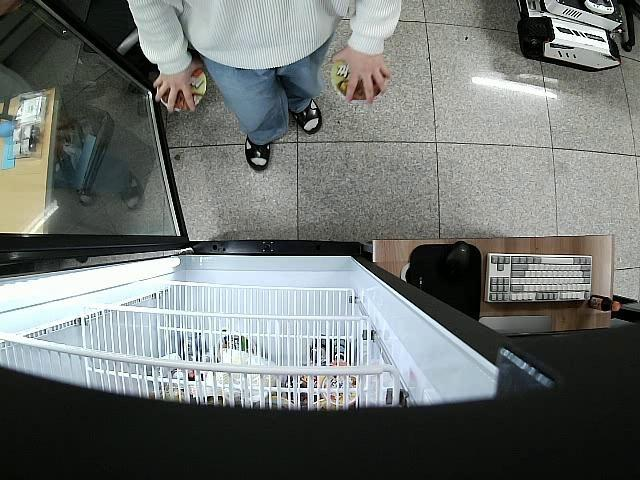03_chapagetti_L: (330, 55, 383, 102), (158, 70, 208, 112)
